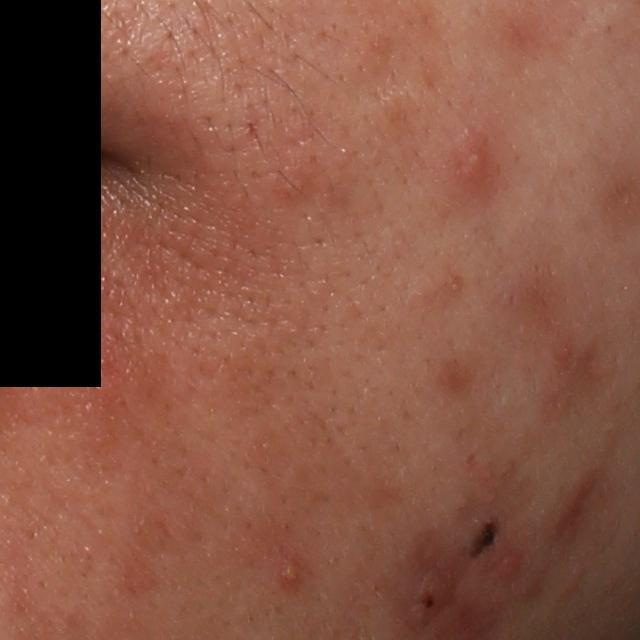nevus: (468, 519, 498, 557)
papule: (451, 127, 497, 196), (410, 573, 452, 625)
pustule: (275, 551, 307, 592)
